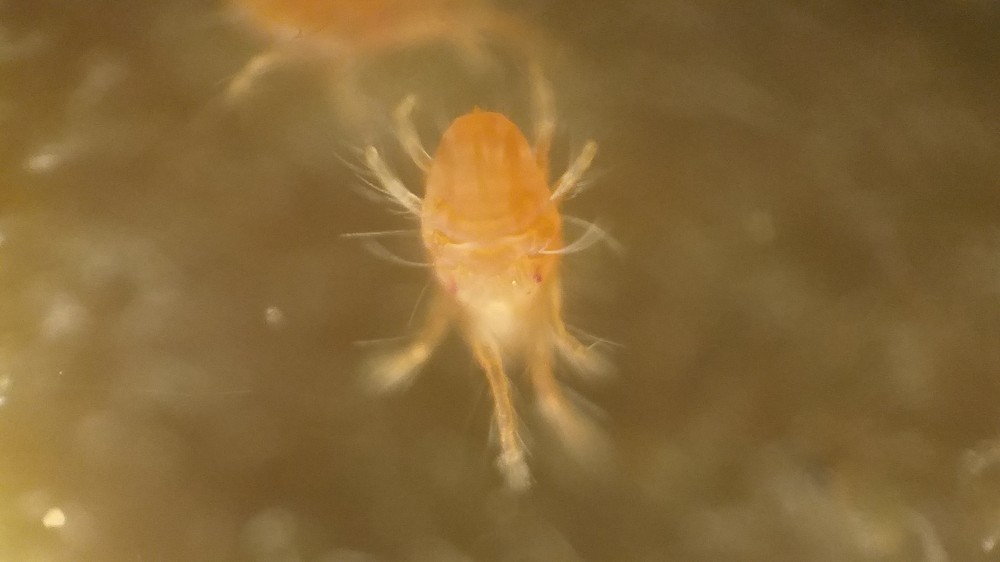Aracnido Rojo: (339, 58, 673, 499)
